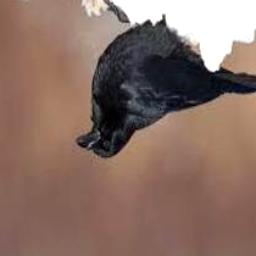Crow: (74, 0, 256, 158)
